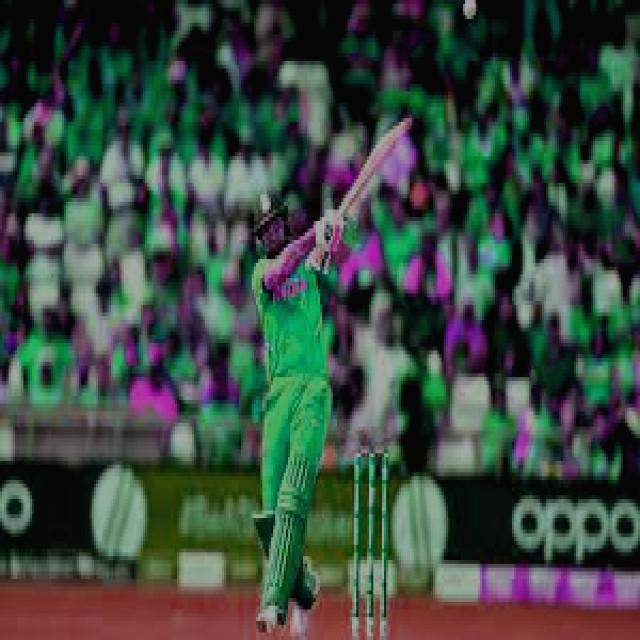toe: (391, 116, 413, 146)
